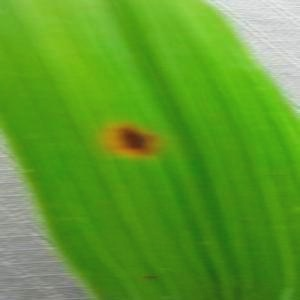Bacterial_Leaf_Blight: (103, 114, 166, 165), (138, 269, 165, 288)
